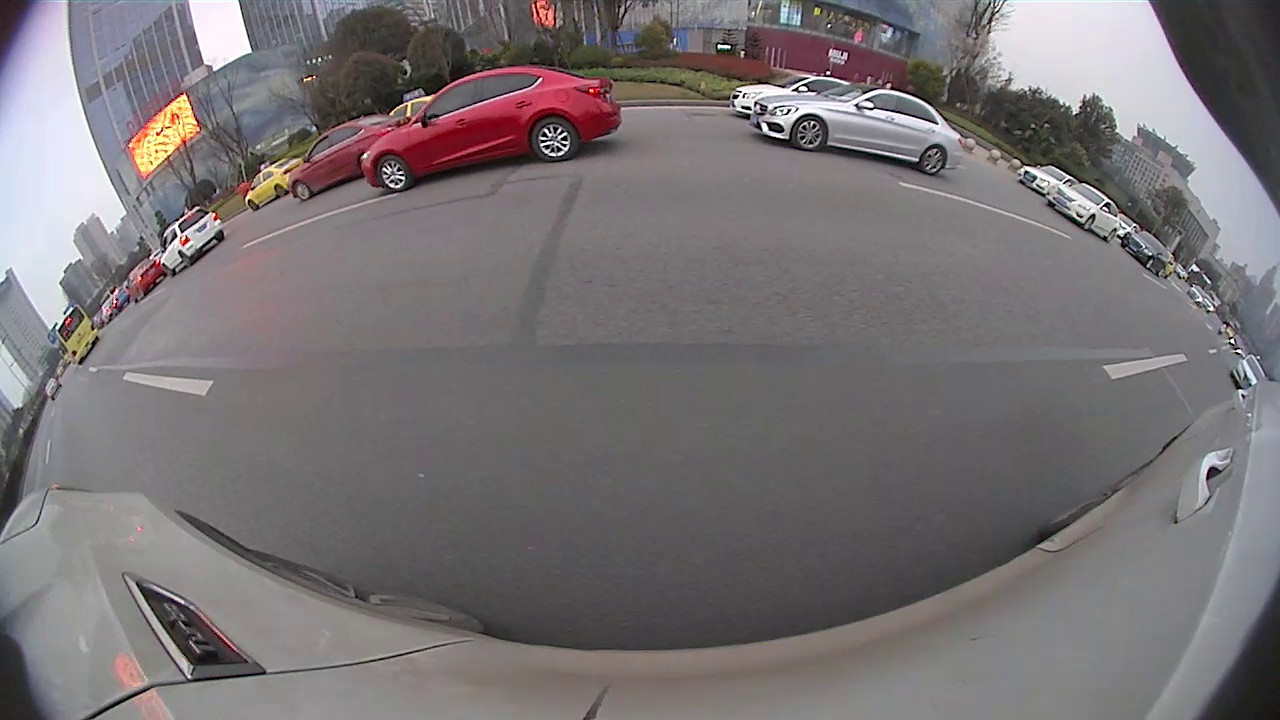bus: (53, 304, 104, 363)
car: (361, 64, 620, 194), (750, 88, 965, 179), (286, 113, 410, 204), (728, 77, 857, 122), (159, 204, 227, 278), (1046, 179, 1118, 246), (242, 154, 301, 212), (1012, 164, 1076, 194)
front: (375, 154, 414, 194), (788, 114, 828, 153), (289, 179, 315, 202), (1081, 214, 1095, 232)
rear: (527, 114, 582, 162), (916, 144, 948, 173), (178, 250, 193, 268), (1103, 228, 1118, 245), (212, 228, 228, 243)
